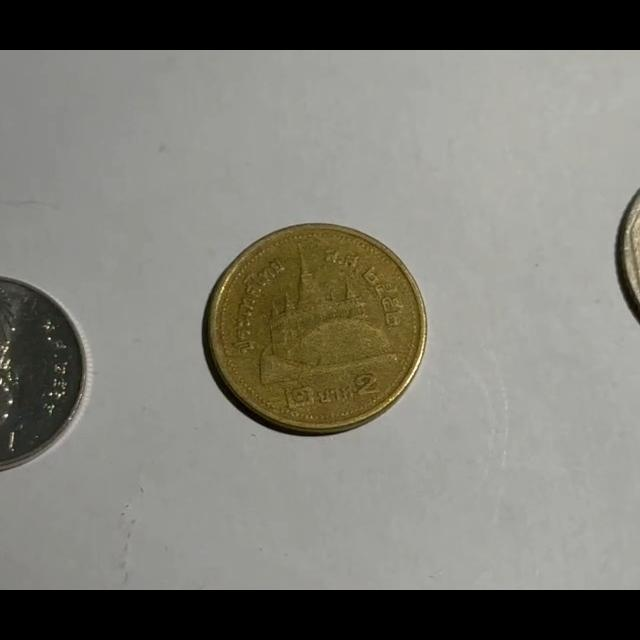1-baht: (0, 275, 89, 475)
2-baht: (205, 225, 425, 435)
